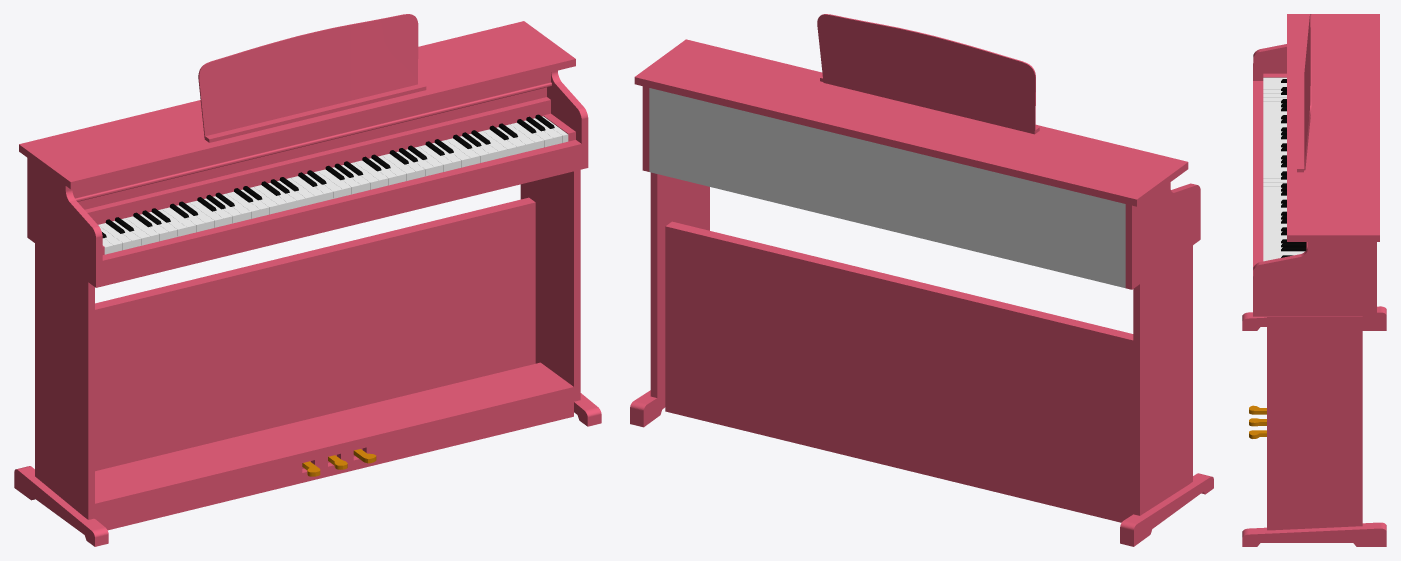
File: 피아노.FBX
3 views of the same model, side by side, from view 1: azimuth 30°, elevation 25°; view 2: azimuth 150°, elevation 25°; view 3: azimuth 270°, elevation 25° (orthographic). The views are drawn at different scales.
Visible parts, largest first — view 1: Box004, Box005, Box006, Rectangle001, Box007, Box008, Box016, Box012, Line001, Box013, Box014, Plane002 (+3 smaller); view 2: Box004, Box009, Box006, Rectangle001, Box008, Line001, Box016, Line003, Line004; view 3: Box016, Box006, Line002, Line004, Box007, Line001, Rectangle001, Line003, Box015.
Boxes of the visible parts, left/top/right/bottom form: Box004: left=95, top=197, right=535, bottom=471; Box005: left=95, top=362, right=573, bottom=530; Box006: left=19, top=21, right=575, bottom=189; Rectangle001: left=198, top=14, right=418, bottom=139; Box007: left=102, top=140, right=581, bottom=286; Box008: left=35, top=243, right=94, bottom=519; Box016: left=520, top=170, right=580, bottom=401; Box012: left=84, top=97, right=550, bottom=224; Line001: left=27, top=158, right=102, bottom=287; Box013: left=72, top=72, right=550, bottom=198; Box014: left=78, top=87, right=546, bottom=209; Plane002: left=75, top=82, right=551, bottom=201; Box004: left=665, top=221, right=1133, bottom=522; Box009: left=649, top=88, right=1125, bottom=288; Box006: left=634, top=39, right=1188, bottom=206; Rectangle001: left=817, top=14, right=1035, bottom=134; Box008: left=1133, top=245, right=1192, bottom=515; Line001: left=1125, top=182, right=1200, bottom=289; Box016: left=650, top=172, right=709, bottom=397; Line003: left=1120, top=473, right=1213, bottom=546; Line004: left=630, top=390, right=665, bottom=427; Box016: left=1267, top=316, right=1362, bottom=530; Box006: left=1287, top=14, right=1379, bottom=241; Line002: left=1253, top=242, right=1376, bottom=316; Line004: left=1242, top=522, right=1386, bottom=546; Box007: left=1253, top=81, right=1263, bottom=275; Line001: left=1253, top=44, right=1286, bottom=80; Rectangle001: left=1304, top=14, right=1311, bottom=170; Line003: left=1242, top=306, right=1386, bottom=330; Box015: left=1297, top=74, right=1304, bottom=172.
Size of what is drawn, in the model's own units: 2410 by 1926 by 663.
